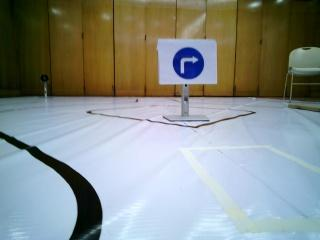right: (160, 39, 219, 84)
